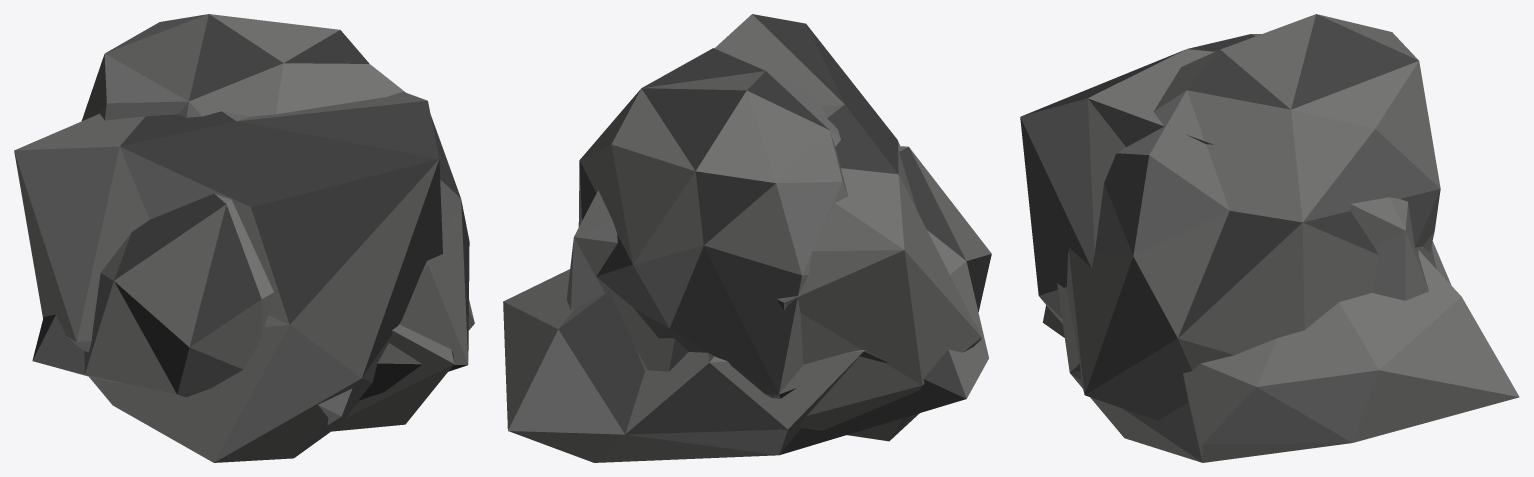
Rendered from asteroids.fbx.
3 renders of one model, left to right at view 1: azimuth 30°, elevation 25°; view 2: azimuth 150°, elevation 25°; view 3: azimuth 270°, elevation 25°, orthographic. The views are drawn at different scales.
Parts seen in each view (by area): view 1: Asteroid2, Asteroid3, Asteroid1; view 2: Asteroid1, Asteroid3, Asteroid2; view 3: Asteroid1, Asteroid3, Asteroid2.
Part boxes in pixels (<box>): Asteroid2: <box>14,91,442,462</box>; Asteroid3: <box>32,193,474,431</box>; Asteroid1: <box>81,14,469,400</box>; Asteroid1: <box>578,48,847,398</box>; Asteroid3: <box>503,146,991,462</box>; Asteroid2: <box>566,14,981,441</box>; Asteroid1: <box>1066,14,1440,420</box>; Asteroid3: <box>1043,241,1519,462</box>; Asteroid2: <box>1020,34,1436,323</box>.
Size of the model in its own units: 196 by 168 by 197.
Materials: 1 (1 with a texture image).
